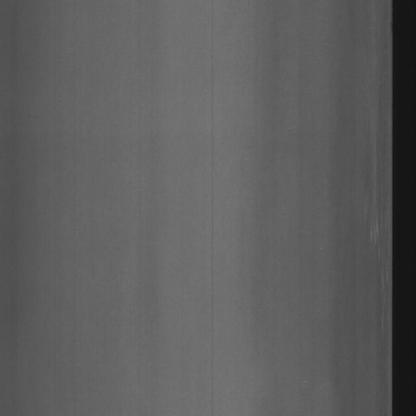silk_spot: (358, 150, 388, 332)
